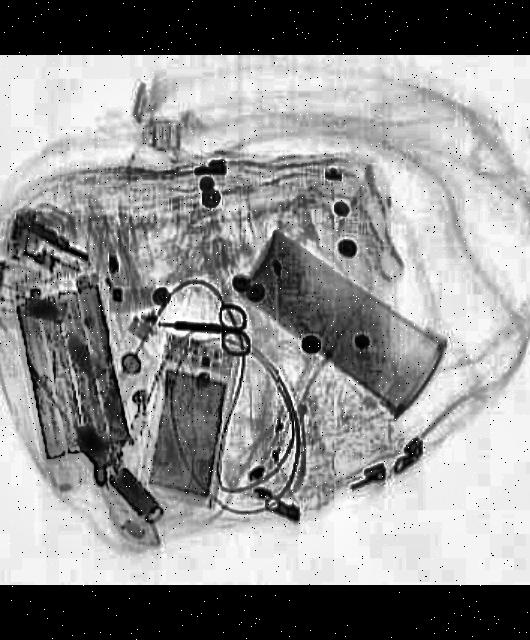Scissors: (158, 298, 254, 354)
